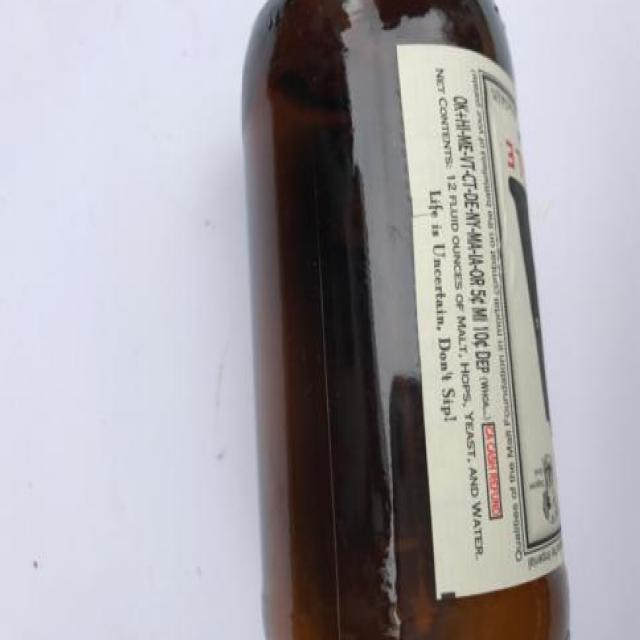glass: (243, 0, 572, 640)
